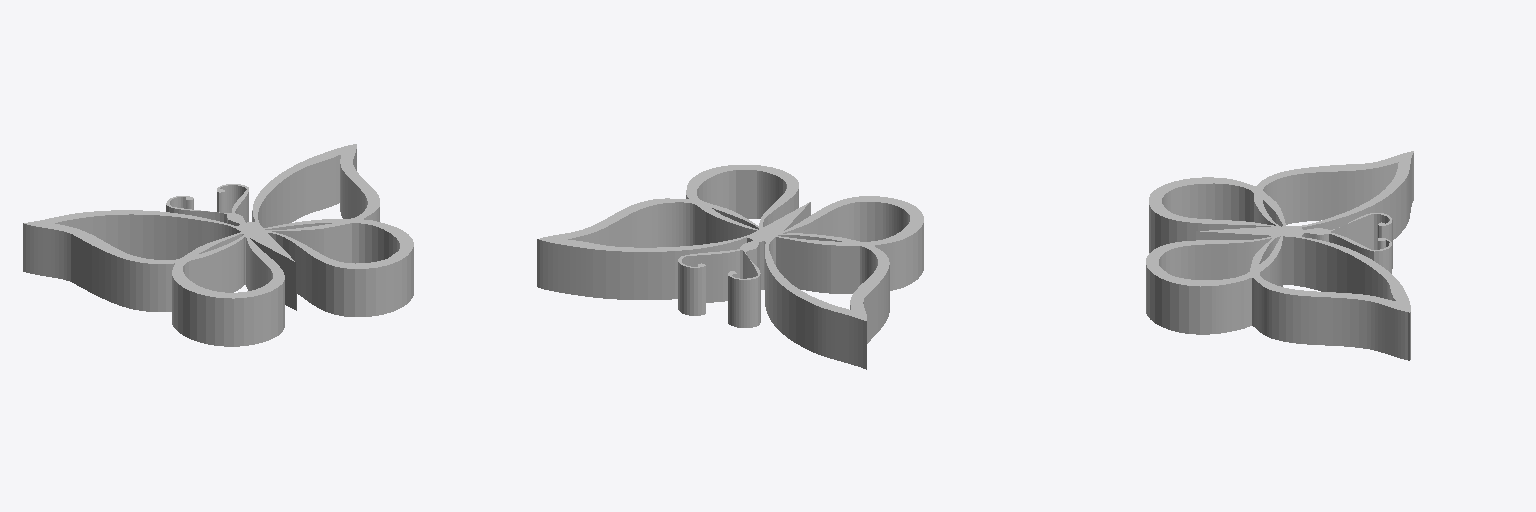
Rendered from NeonButterfly.obj.
The picture shows the model from 3 angles: view 1: azimuth 30°, elevation 25°; view 2: azimuth 150°, elevation 25°; view 3: azimuth 270°, elevation 25°; orthographic projection.
Visible parts, largest first — view 1: Preenchimento_de_Cor_1_Preenchimento_de_Cor_1.003; view 2: Preenchimento_de_Cor_1_Preenchimento_de_Cor_1.003; view 3: Preenchimento_de_Cor_1_Preenchimento_de_Cor_1.003.
Boxes of the visible parts, box(x1,y1,x2,y2) form: Preenchimento_de_Cor_1_Preenchimento_de_Cor_1.003: box(23, 144, 413, 346); Preenchimento_de_Cor_1_Preenchimento_de_Cor_1.003: box(537, 165, 923, 369); Preenchimento_de_Cor_1_Preenchimento_de_Cor_1.003: box(1146, 151, 1413, 360).
Bounding box in the file's own units: 1.31 × 0.1816 × 0.9164.